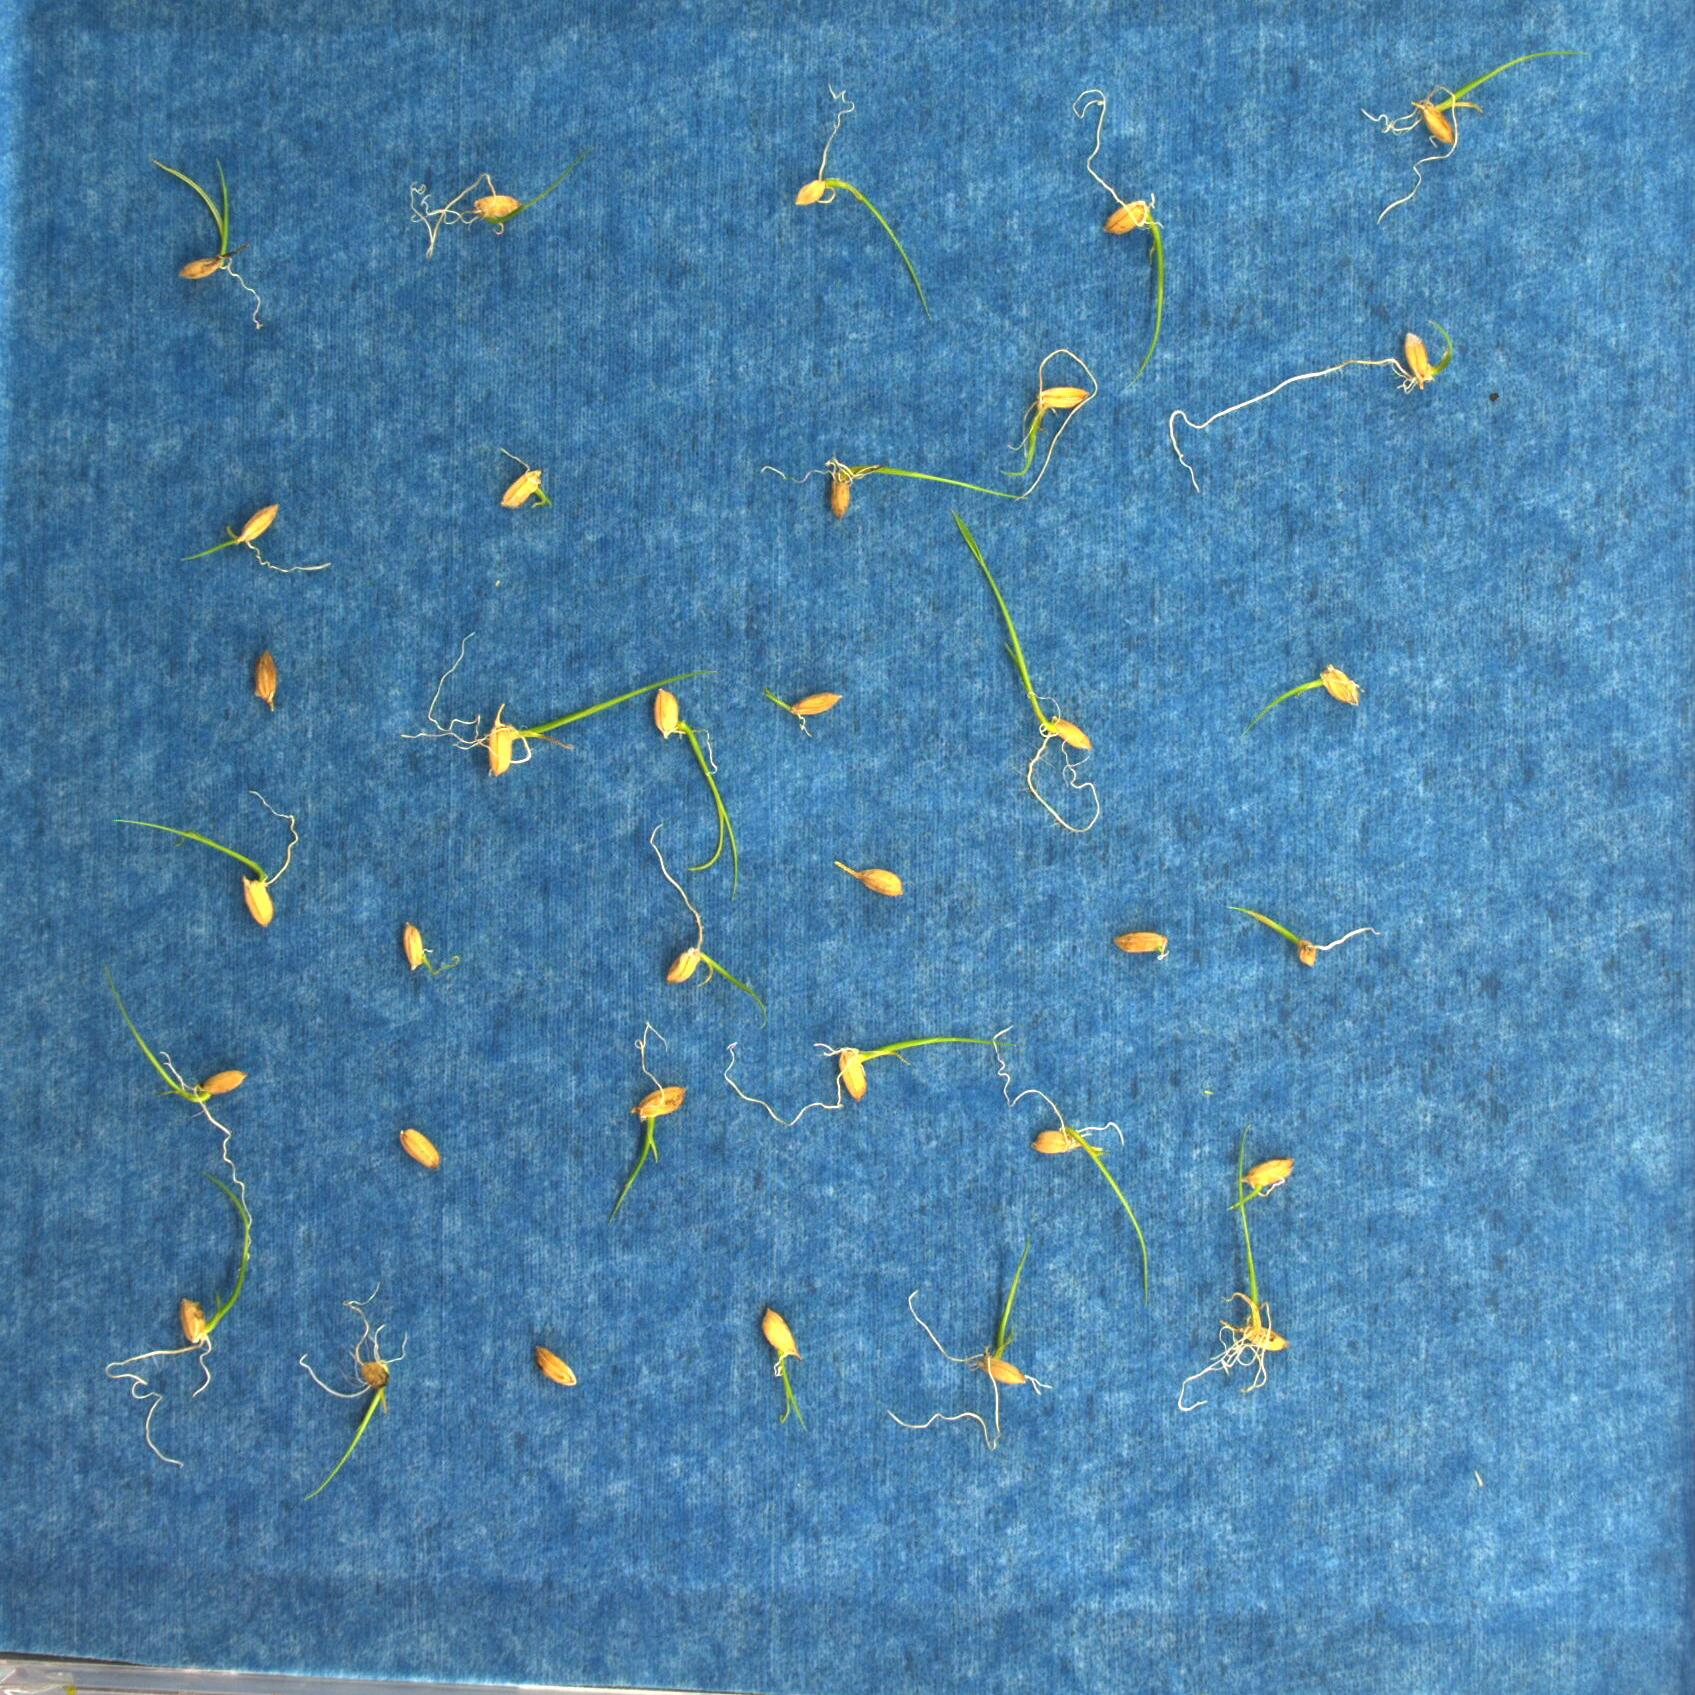not sprout: (768, 680, 857, 744), (391, 1114, 455, 1177), (835, 854, 913, 900), (520, 1329, 573, 1392), (244, 641, 290, 712), (386, 914, 438, 972), (1107, 916, 1169, 958)
sprout: (933, 498, 1133, 854), (1164, 301, 1461, 481), (990, 1012, 1163, 1310), (92, 1183, 262, 1475), (397, 618, 717, 771), (104, 978, 265, 1270), (1051, 81, 1201, 390), (886, 1239, 1073, 1451), (1361, 40, 1571, 227), (781, 81, 927, 312), (1180, 1128, 1305, 1394), (109, 789, 315, 936), (719, 1023, 990, 1135), (295, 1277, 422, 1499), (757, 445, 1052, 532), (636, 681, 757, 883), (593, 1012, 705, 1223), (147, 151, 275, 335), (638, 827, 754, 1004), (1007, 348, 1118, 508), (393, 161, 557, 261), (1217, 886, 1392, 976), (191, 494, 345, 590), (742, 1285, 830, 1445), (1246, 660, 1371, 725), (1215, 1153, 1312, 1222), (477, 441, 563, 515)
